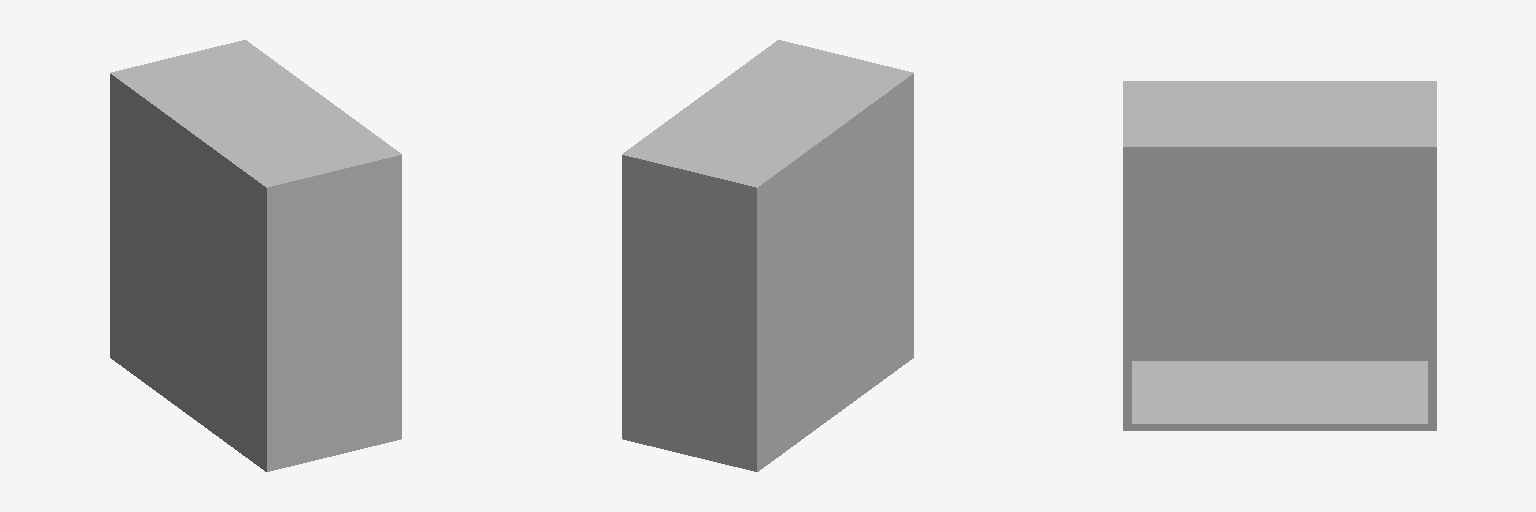
File: inventory_box_new.obj
The picture shows the model from 3 angles: view 1: azimuth 30°, elevation 25°; view 2: azimuth 150°, elevation 25°; view 3: azimuth 270°, elevation 25°; orthographic projection.
Visible parts, largest first — view 1: Body1; view 2: Body1; view 3: Body1.
Boxes of the visible parts, box(x1,y1,x2,y2) form: Body1: box(110, 40, 401, 471); Body1: box(622, 40, 913, 471); Body1: box(1123, 81, 1436, 430).
Size of the model in its own units: 450 by 900 by 900.